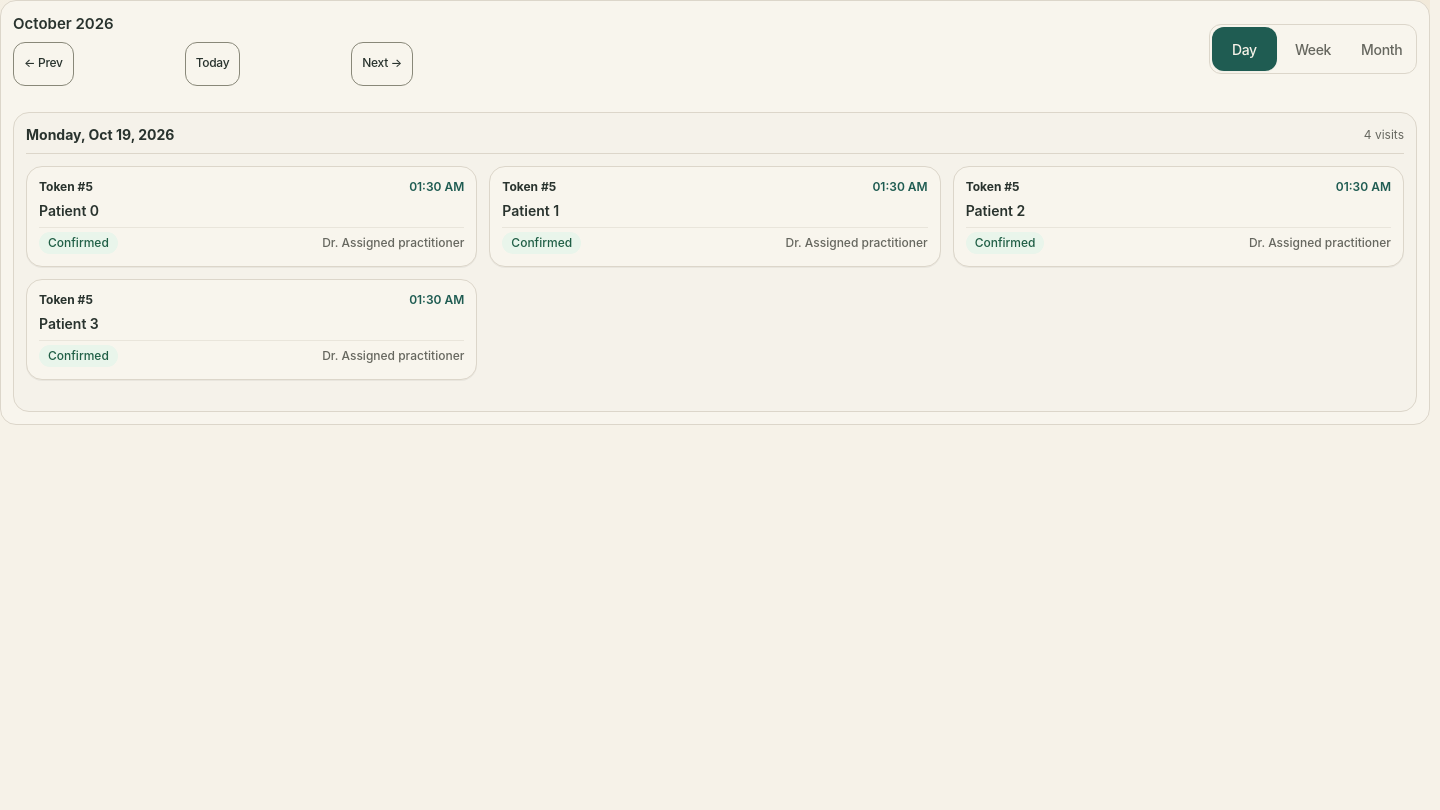
Test case: makes every appointment on a crowded month date reachable through its daily agenda
Click the button "month": click(1382, 49) left=1349, top=27, right=1414, bottom=71
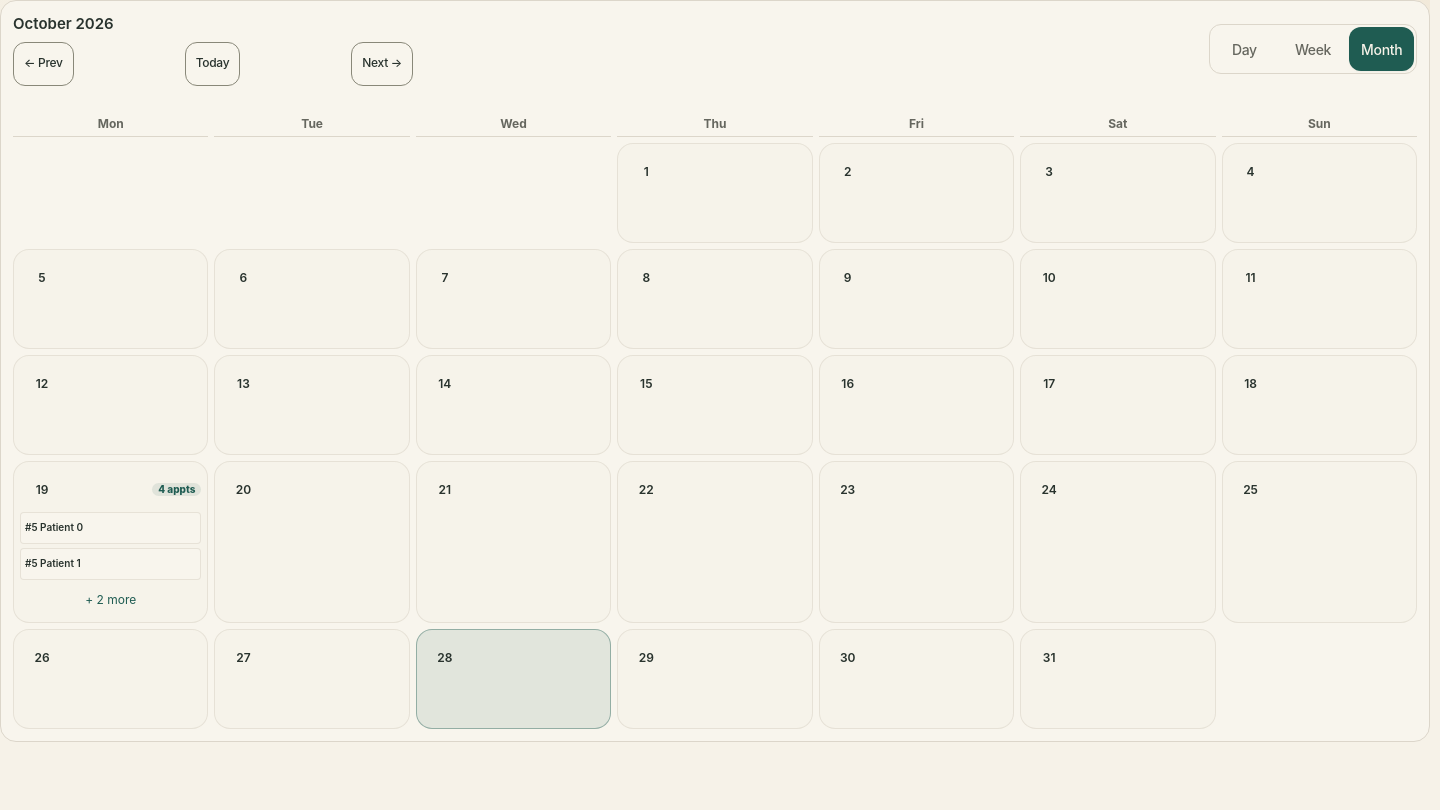
Click the button named "October 19, 4 visits. Open day": click(42, 490) left=20, top=468, right=64, bottom=512
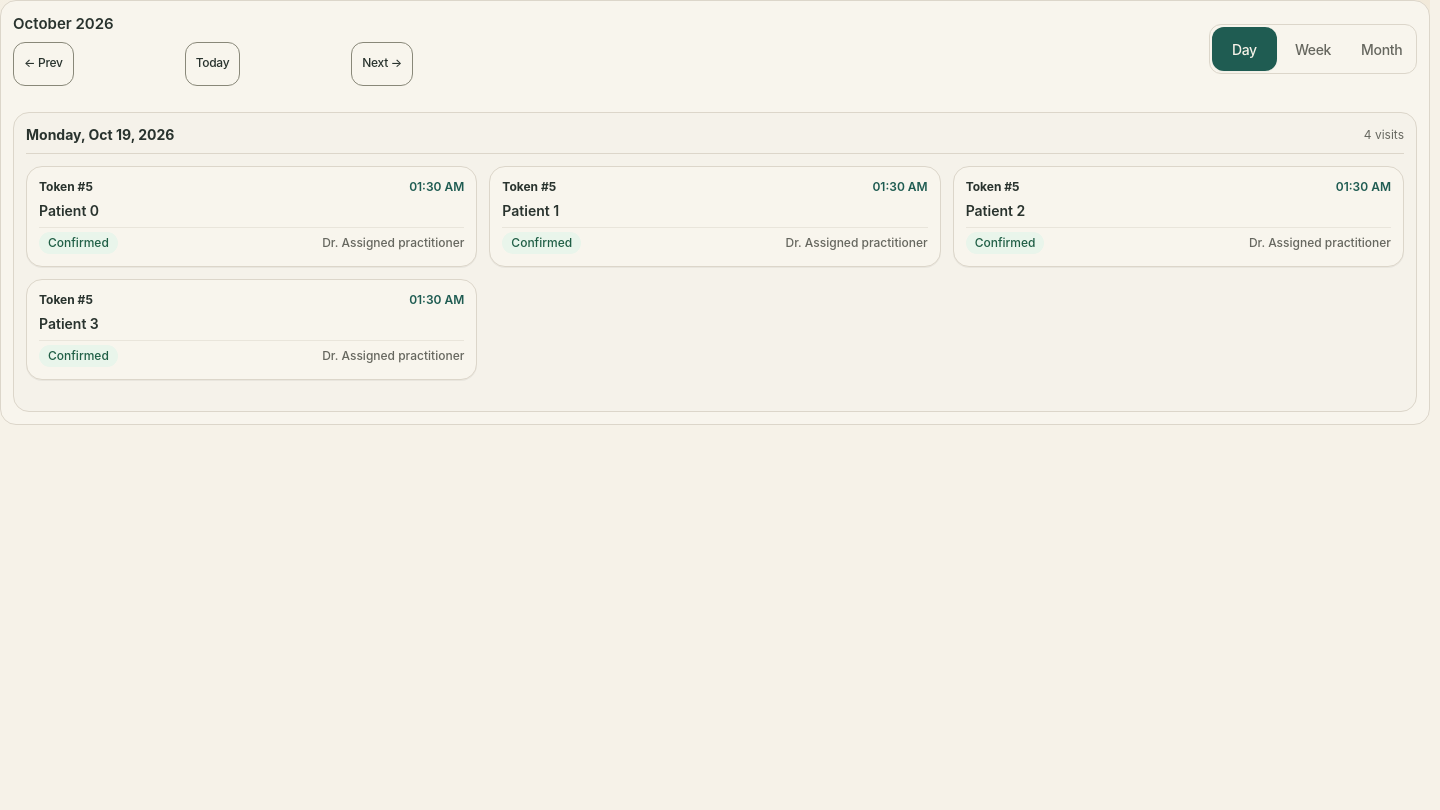
Now the button "Patient 3" is shown, box left=26, top=278, right=477, bottom=380
